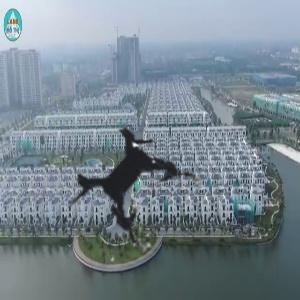drone: (28, 76, 241, 289)
